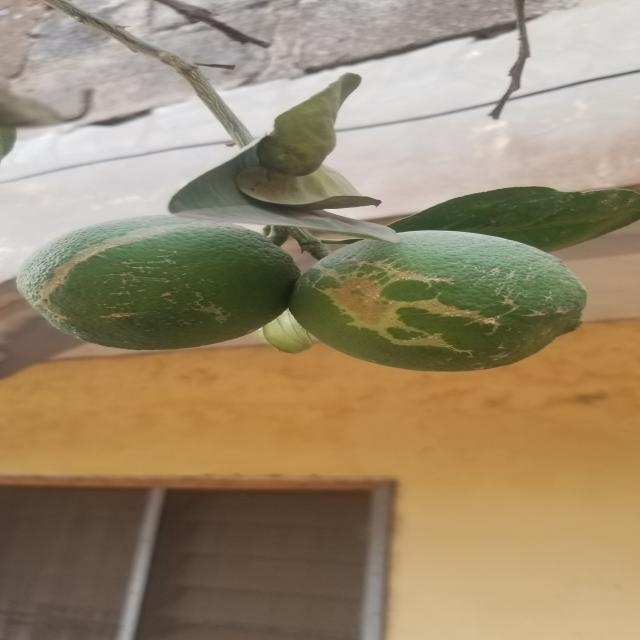agrume: (284, 232, 588, 371), (22, 214, 290, 349)
